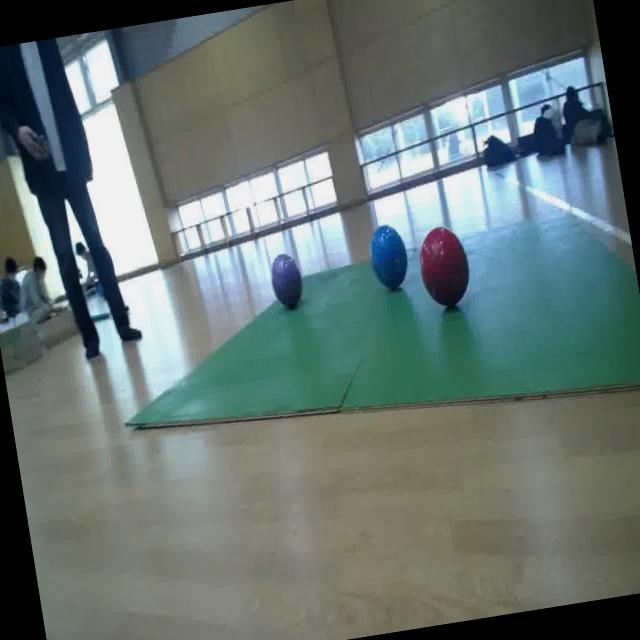blue_ball: (366, 222, 413, 292)
purple_ball: (268, 250, 307, 310)
red_ball: (414, 223, 474, 312)
